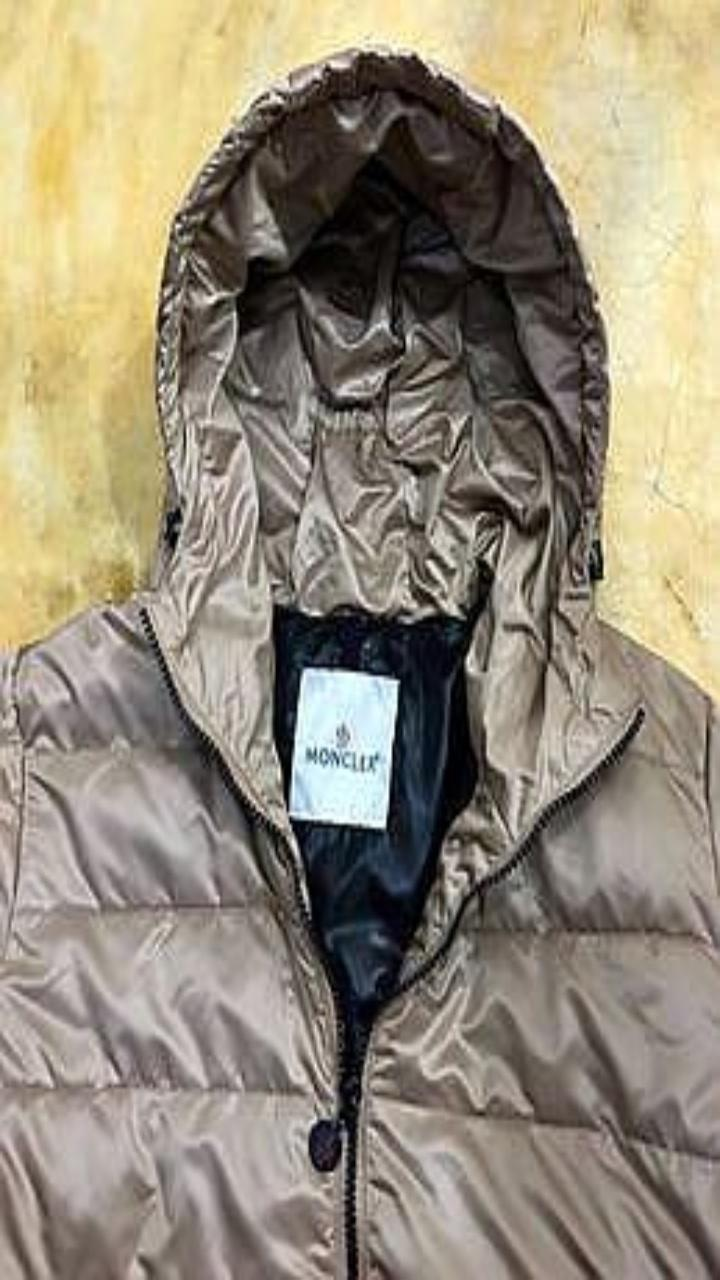Coat: (0, 46, 719, 1279)
